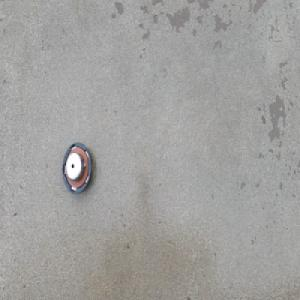FuelCap: (62, 142, 93, 198)
